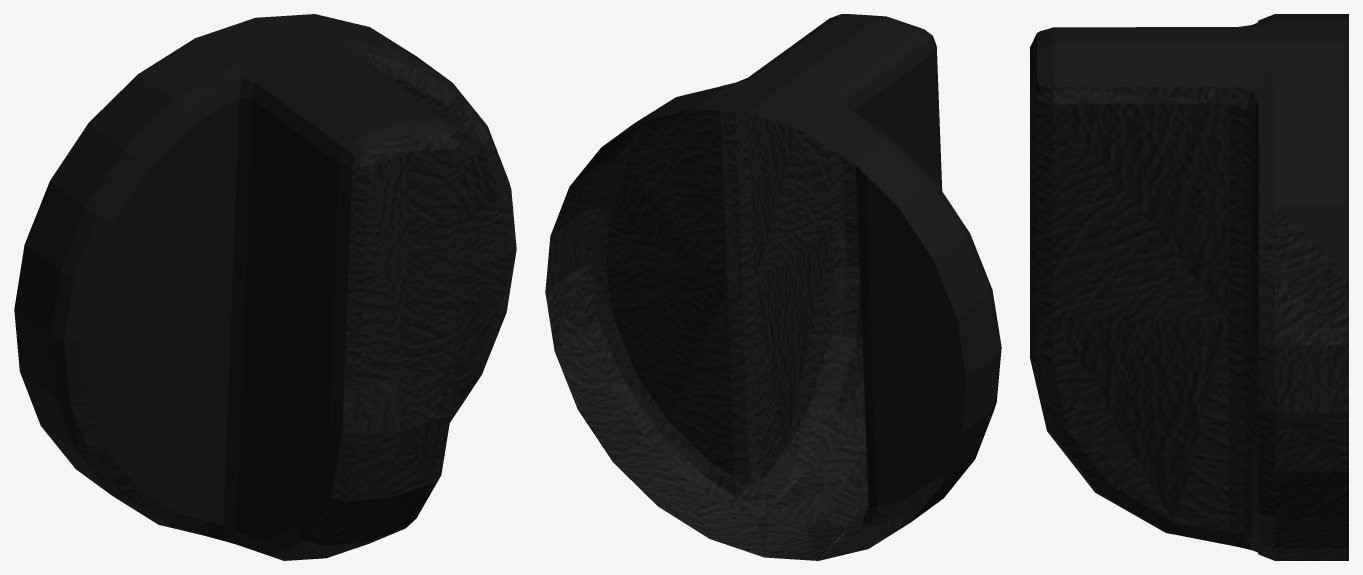
The model's file is stove_knob_button.obj.
The picture shows the model from 3 angles, left to right: view 1: azimuth 30°, elevation 25°; view 2: azimuth 150°, elevation 25°; view 3: azimuth 270°, elevation 25°; orthographic projection. The views are drawn at different scales.
Parts seen in each view (by area): view 1: knob; view 2: knob; view 3: knob.
Part boxes in pixels (x1,y1,x2,y2): knob: (14,14,516,560); knob: (545,14,1001,560); knob: (1030,14,1348,560).
Bounding box in the file's own units: 0.0925 × 0.0925 × 0.0539.
